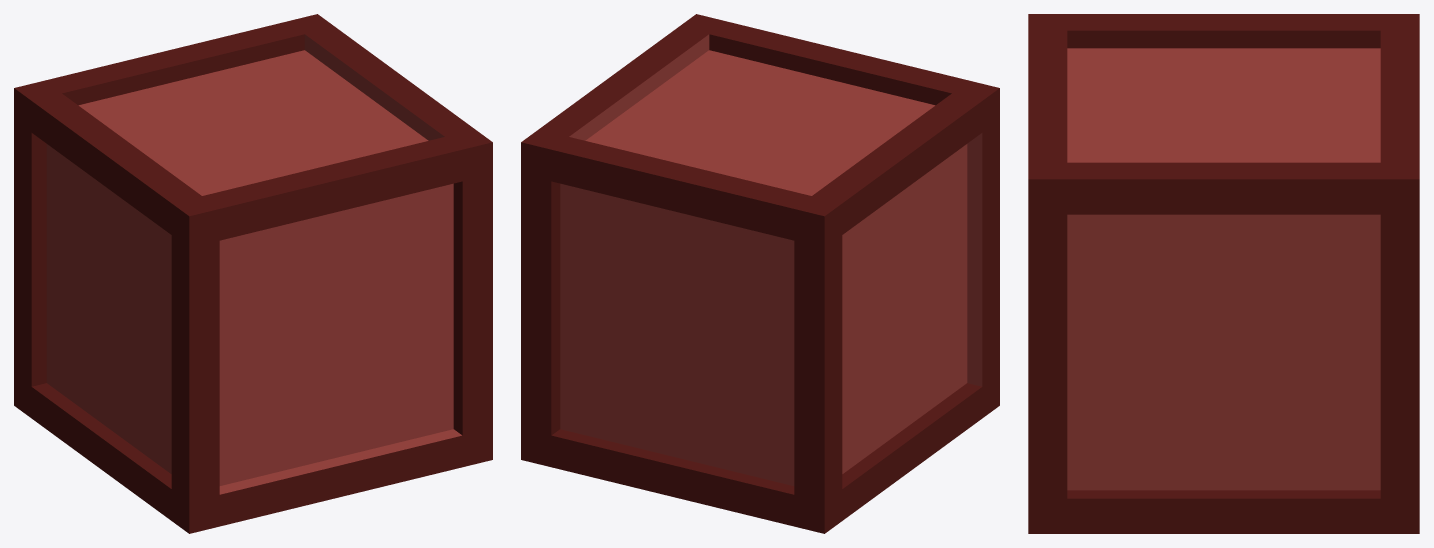
File: Crate.fbx
3 renders of one model, left to right at view 1: azimuth 30°, elevation 25°; view 2: azimuth 150°, elevation 25°; view 3: azimuth 270°, elevation 25°, orthographic. The views are drawn at different scales.
Visible parts, largest first — view 1: Cube; view 2: Cube; view 3: Cube.
Part boxes in pixels (x1,y1,x2,y2): Cube: [14, 14, 492, 533]; Cube: [521, 14, 999, 533]; Cube: [1028, 14, 1419, 533].
Bounding box in the file's own units: 200 × 200 × 200.
